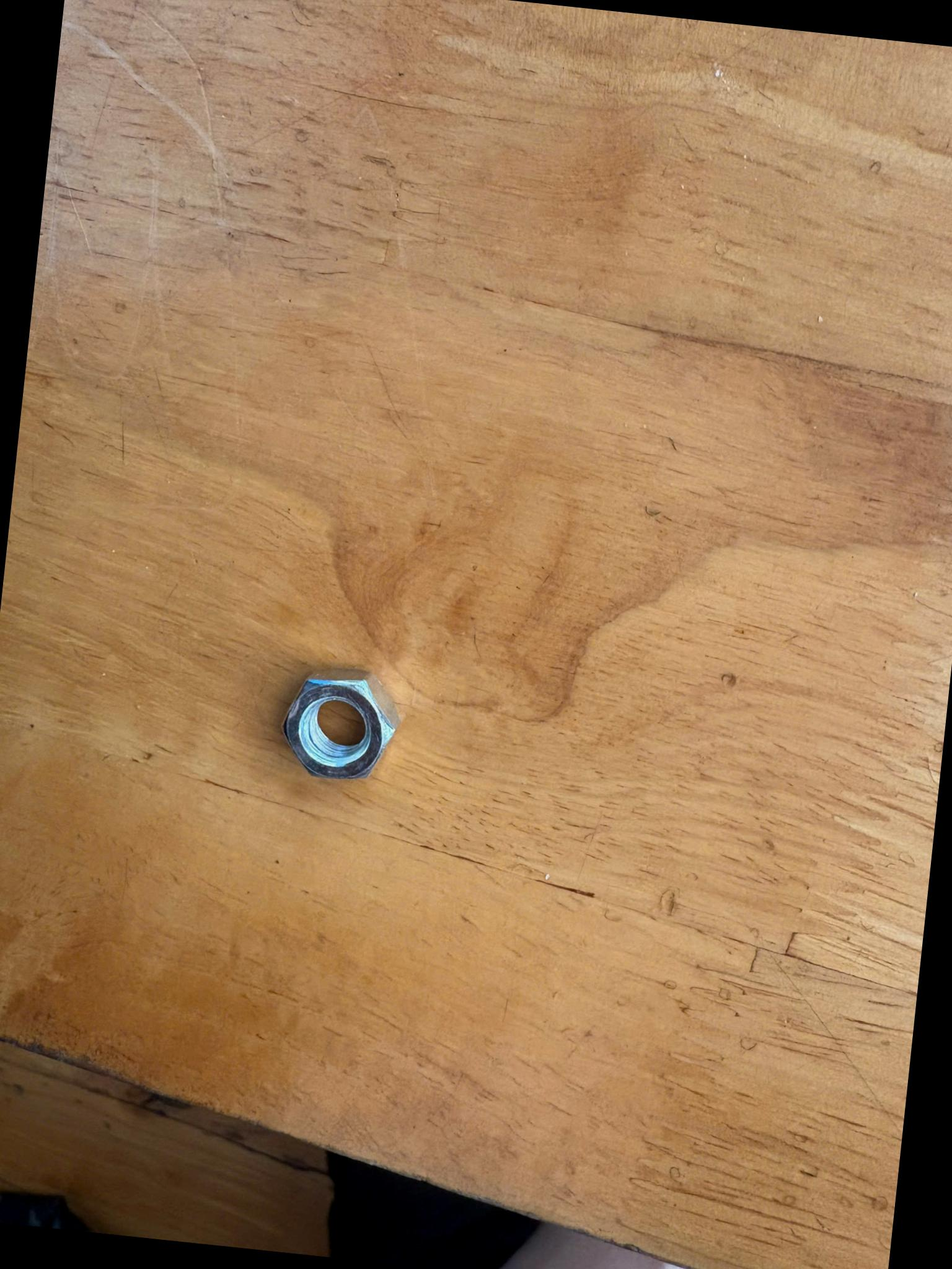nut: (264, 654, 411, 814)
